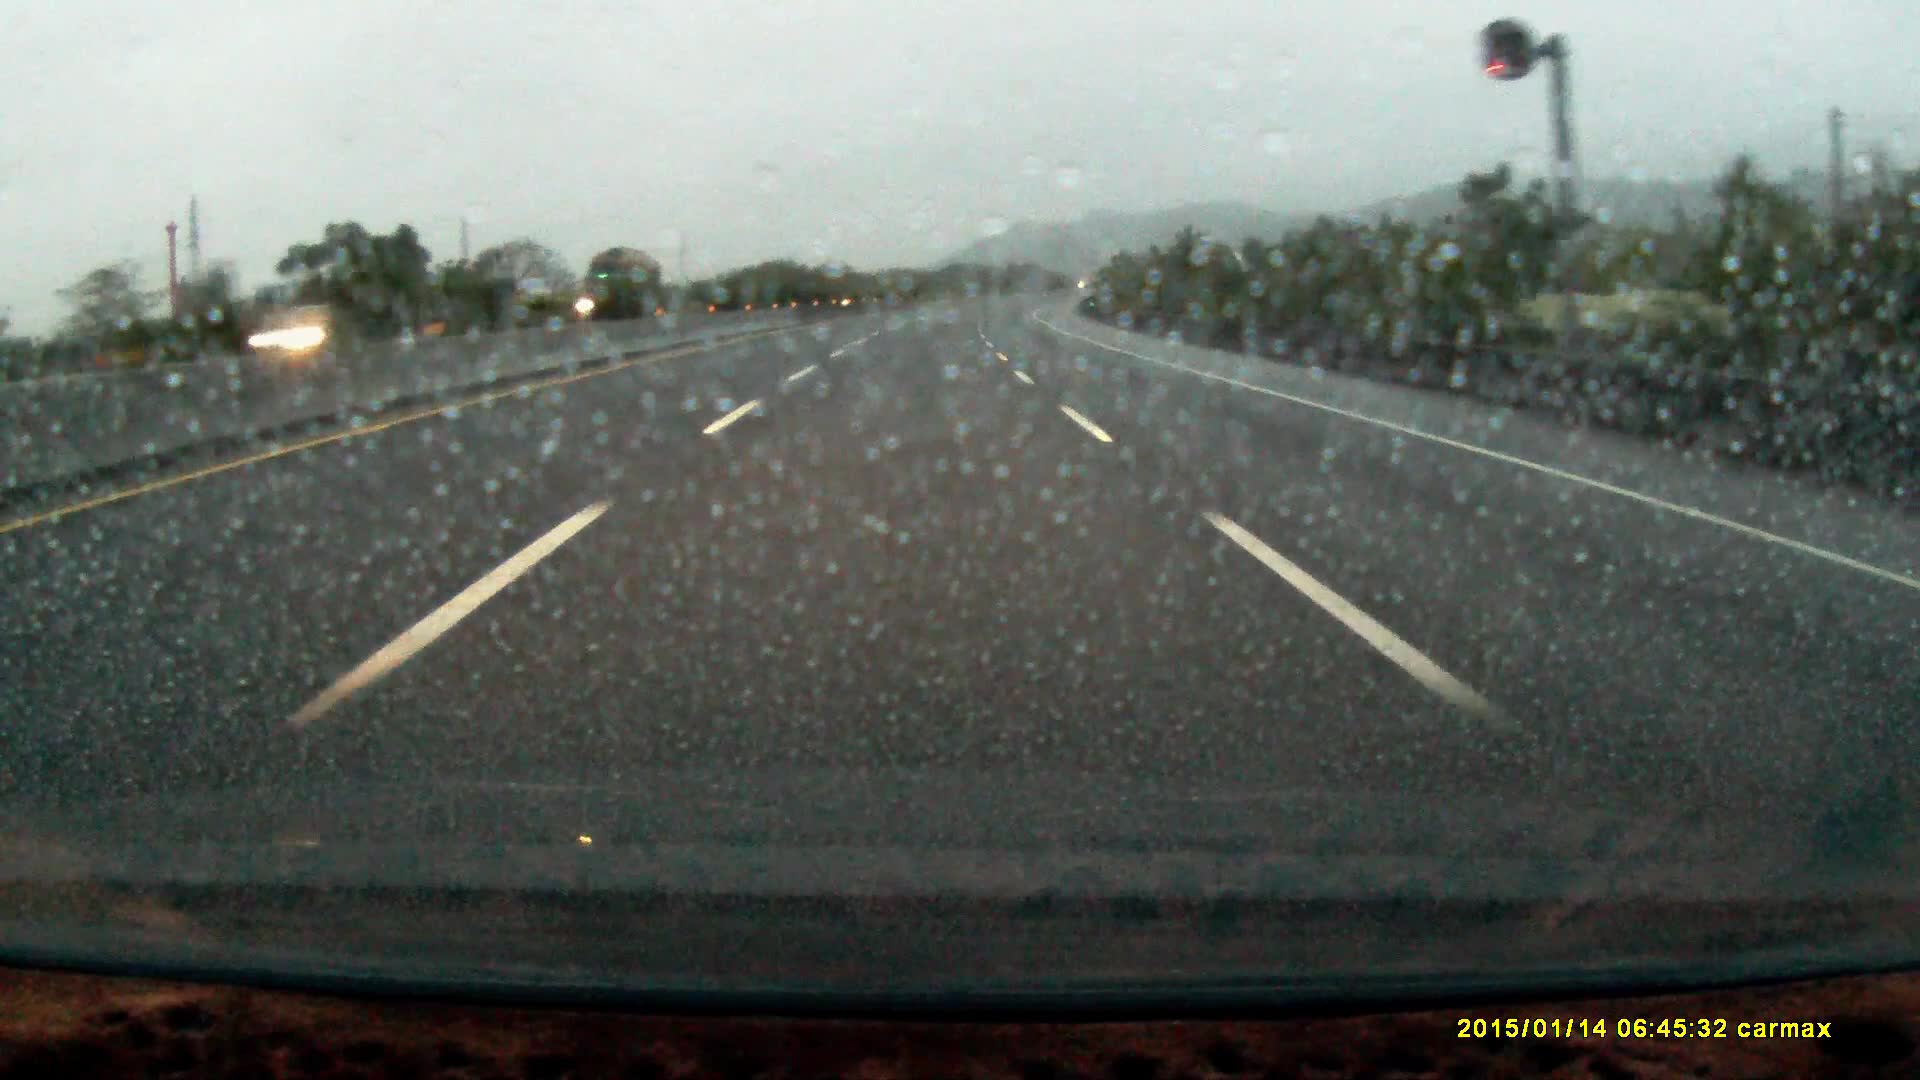vehicle: (239, 307, 382, 361), (574, 247, 666, 320)
